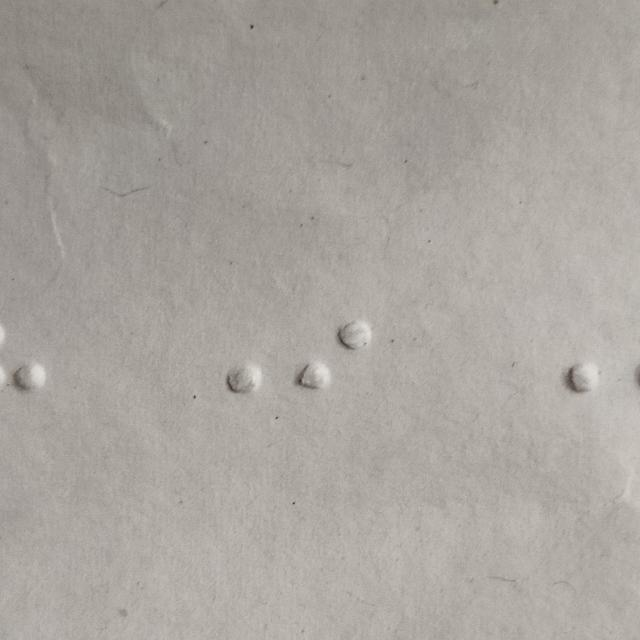dot_5: (182, 315, 266, 440)
two_cell_alphabet_isip: (292, 315, 375, 440)
